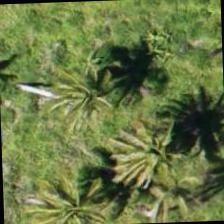Kelapa_Sawit: (100, 108, 193, 202), (27, 42, 120, 135), (29, 165, 123, 223)
